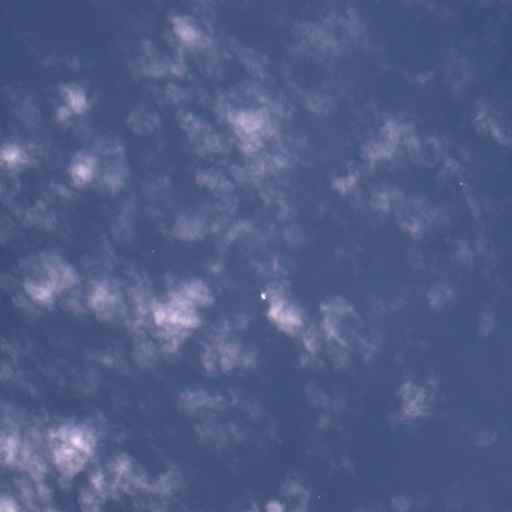Iceberg: (261, 293, 265, 299), (460, 183, 462, 184), (152, 250, 153, 252), (318, 496, 319, 497)
